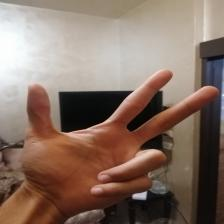three: (20, 67, 219, 204)
